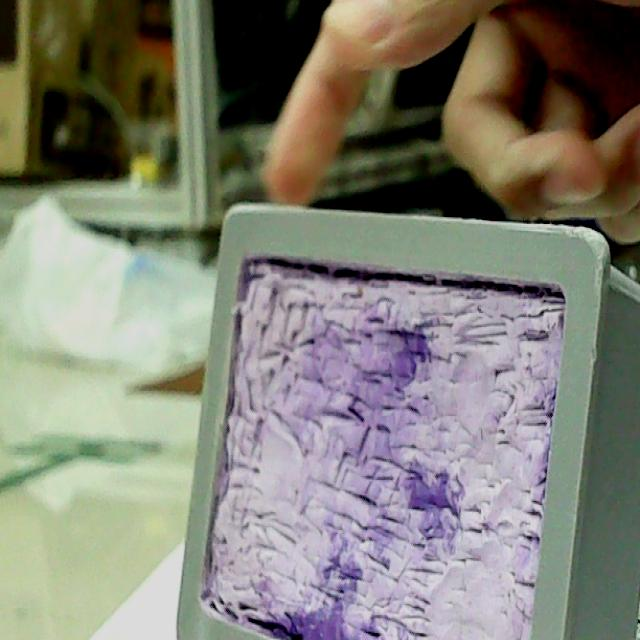block: (167, 203, 637, 640)
